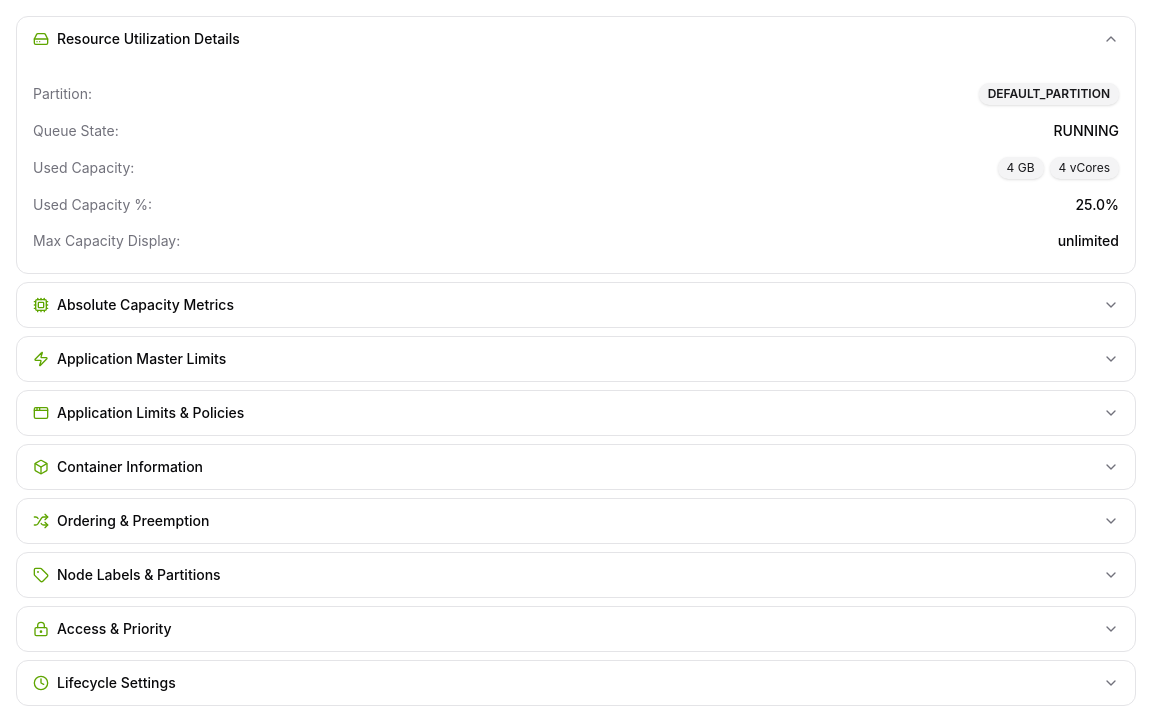
Scenario: QueueInfoTab › Container Information section › should display "No container data available" when no container data present
Step 1. Click the button "Container Information" → coordinates (130, 466), box [17,445,1135,489]
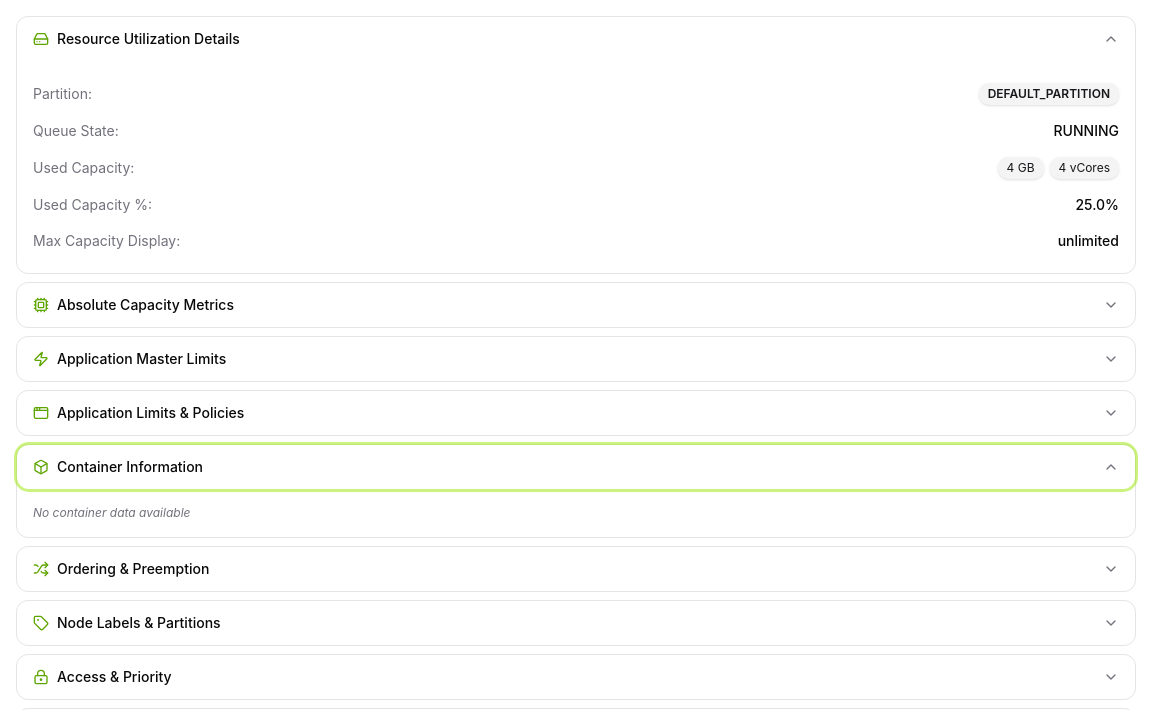
Now the text "No container data available" is shown, box [33,505,190,520]
